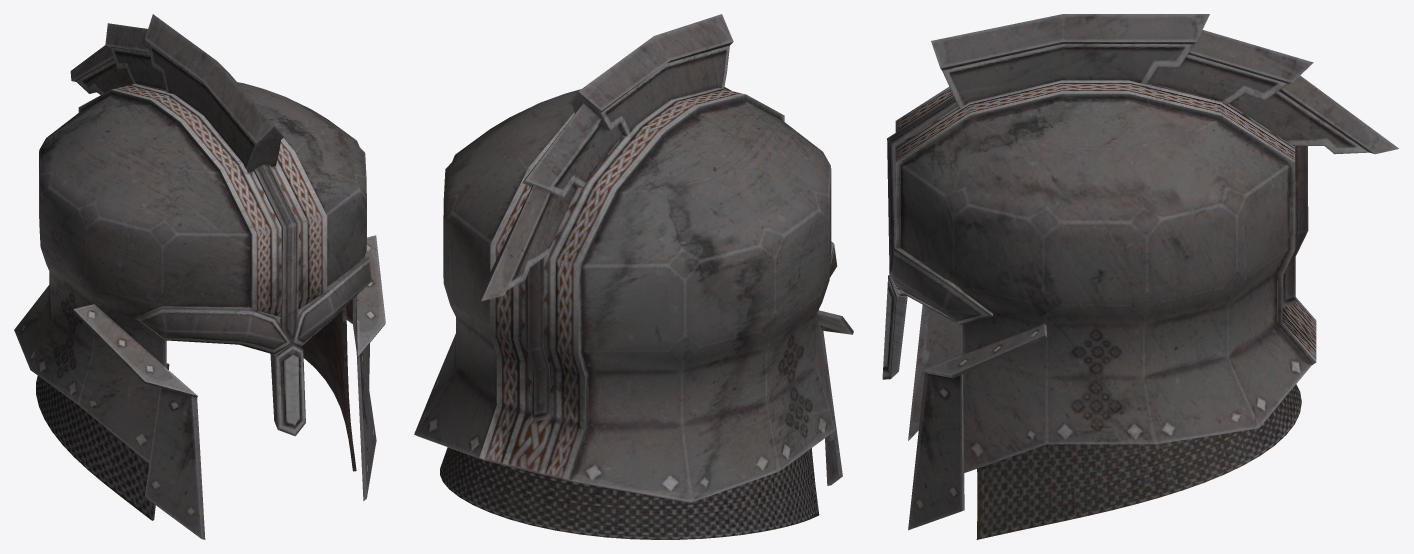
File: sk_dwarf_iron_helmet_heavy_d2.fbx
The picture shows the model from 3 angles, left to right: view 1: azimuth 30°, elevation 25°; view 2: azimuth 150°, elevation 25°; view 3: azimuth 270°, elevation 25°; orthographic projection. The views are drawn at different scales.
Parts seen in each view (by area): view 1: sk_dwarf_iron_helmet_heavy_d2; view 2: sk_dwarf_iron_helmet_heavy_d2; view 3: sk_dwarf_iron_helmet_heavy_d2.
Boxes of the visible parts, <box> form: sk_dwarf_iron_helmet_heavy_d2: <box>14,14,385,539</box>; sk_dwarf_iron_helmet_heavy_d2: <box>414,14,853,539</box>; sk_dwarf_iron_helmet_heavy_d2: <box>882,14,1398,539</box>.
Size of the model in its own units: 0.2823 by 0.3632 by 0.3658.
